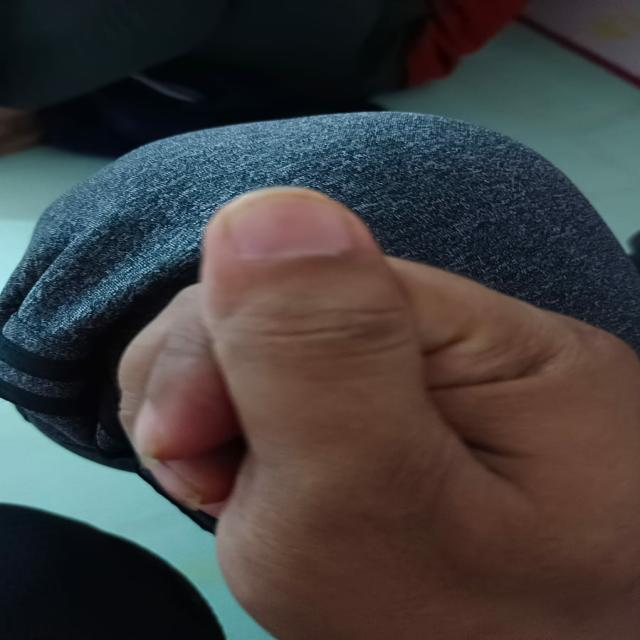sehat: (229, 198, 355, 258)
